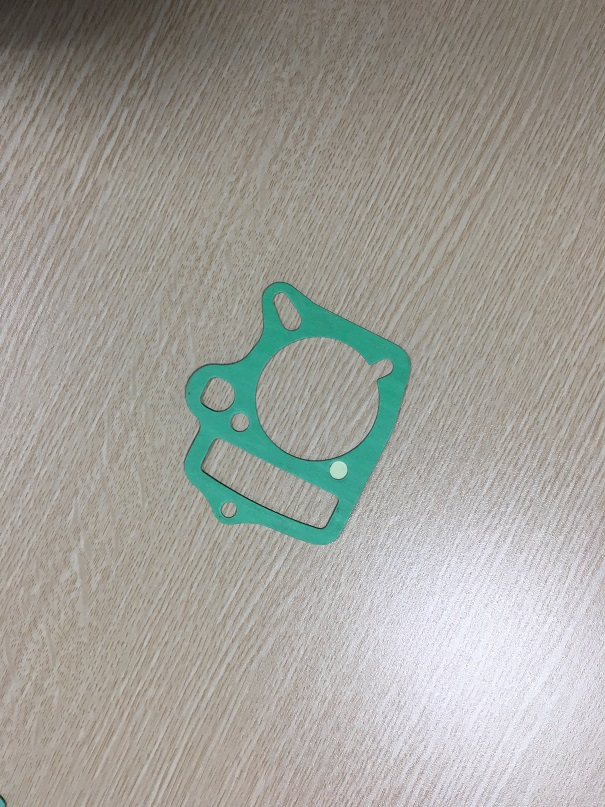type4: (168, 277, 421, 558)
